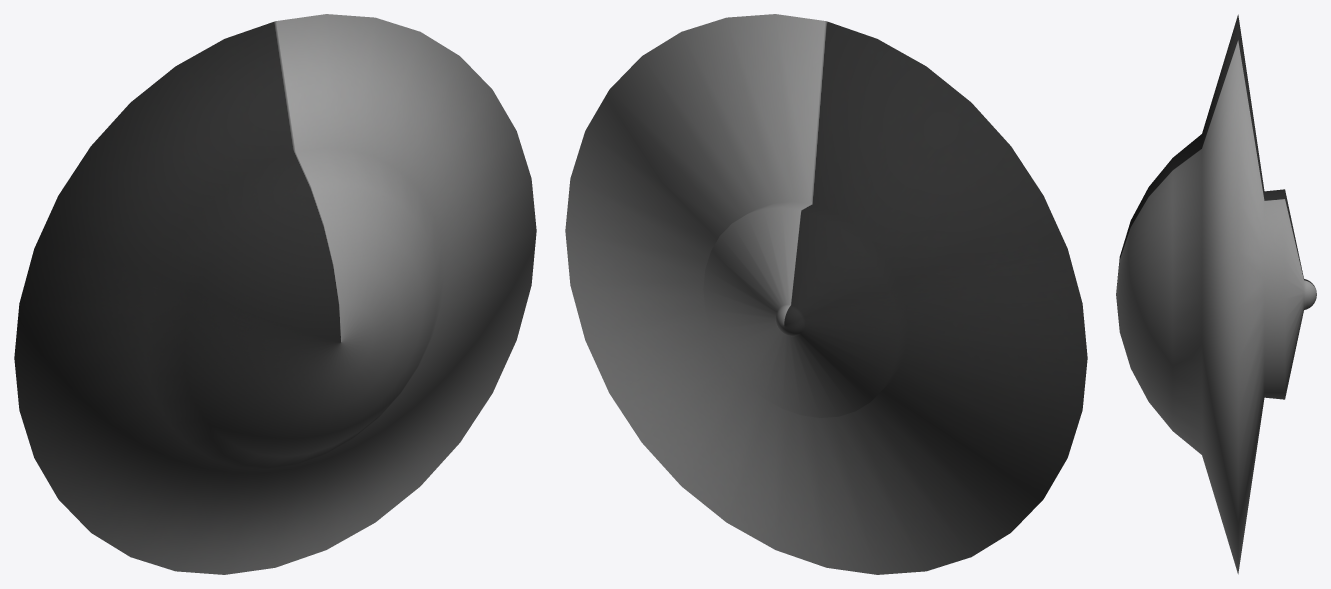
The model's file is UFO.FBX.
The picture shows the model from 3 angles, left to right: view 1: azimuth 30°, elevation 25°; view 2: azimuth 150°, elevation 25°; view 3: azimuth 270°, elevation 25°; orthographic projection. The views are drawn at different scales.
Parts seen in each view (by area): view 1: Sphere01; view 2: Sphere01; view 3: Sphere01.
Boxes of the visible parts, x1,y1,x2,y2 form: Sphere01: (14, 14, 536, 574); Sphere01: (565, 14, 1087, 574); Sphere01: (1116, 14, 1316, 574).
Bounding box in the file's own units: 135 × 48.26 × 135.
1 material, 1 textured.
